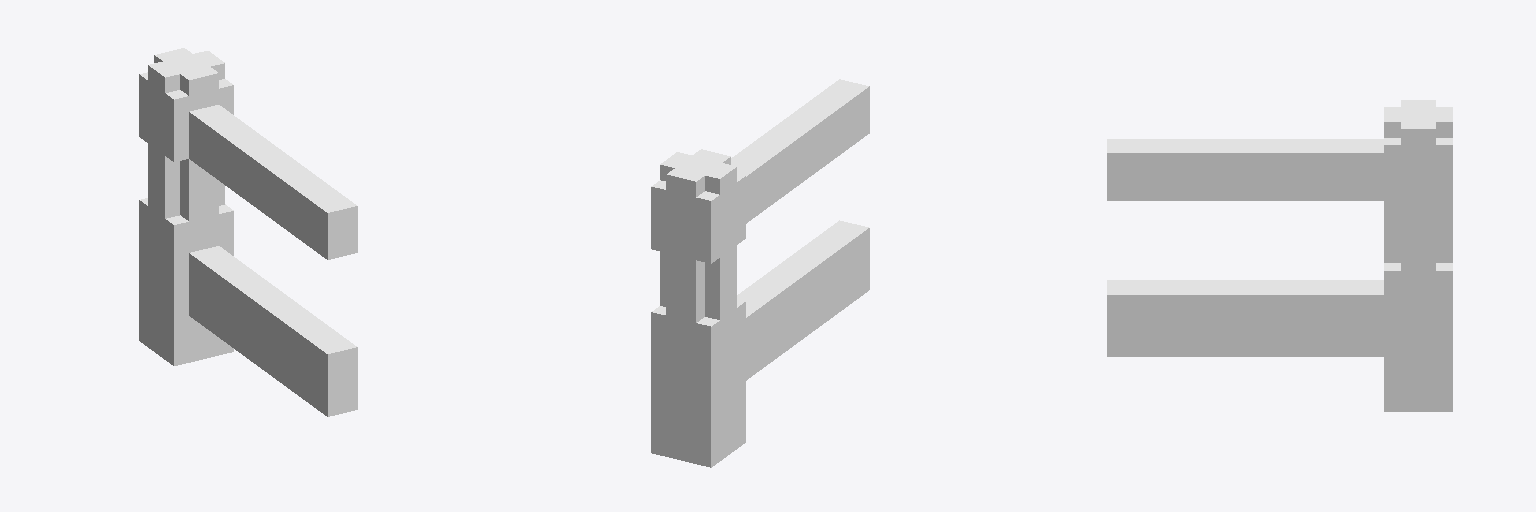
Rendered from fence_part_2.obj.
3 views of the same model, side by side, from view 1: azimuth 30°, elevation 25°; view 2: azimuth 150°, elevation 25°; view 3: azimuth 270°, elevation 25° (orthographic).
Parts seen in each view (by area): view 1: object 1; view 2: object 1; view 3: object 1.
Part boxes in pixels (x1,y1,x2,y2): object 1: (139, 48, 357, 416); object 1: (651, 79, 869, 467); object 1: (1107, 100, 1452, 411).
Size of the model in its own units: 0.4 by 1.8 by 2.